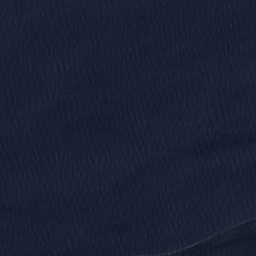Marine Debris: (134, 214, 256, 256)
